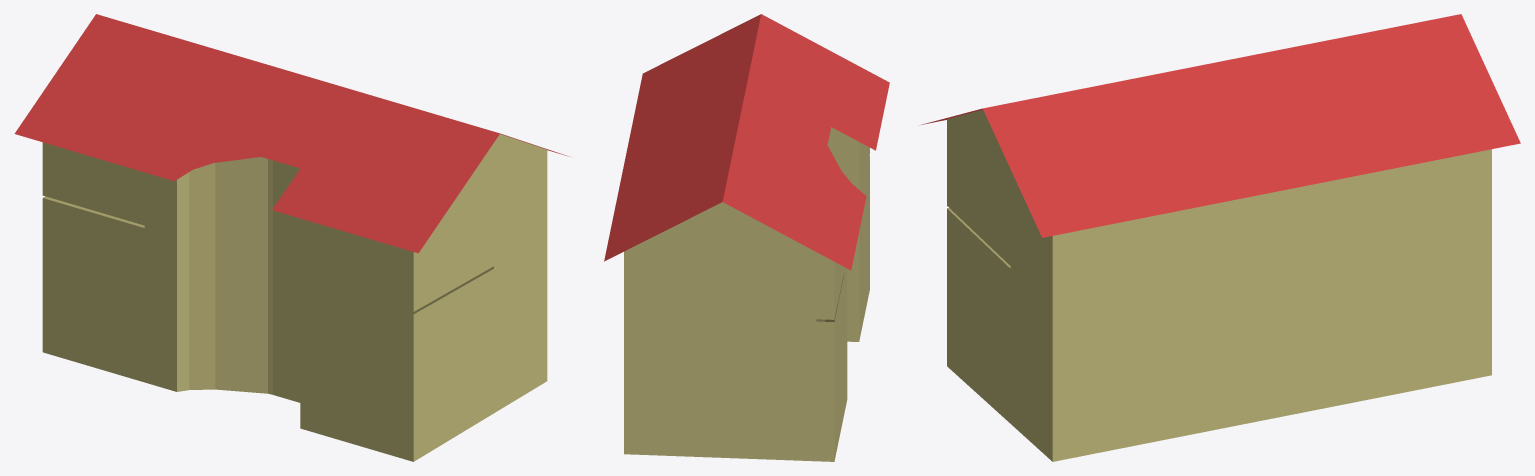
3 renders of one model, left to right at view 1: azimuth 30°, elevation 25°; view 2: azimuth 150°, elevation 25°; view 3: azimuth 270°, elevation 25°, orthographic. The views are drawn at different scales.
Size of the model in its own units: 16.87 by 20.78 by 11.86.
